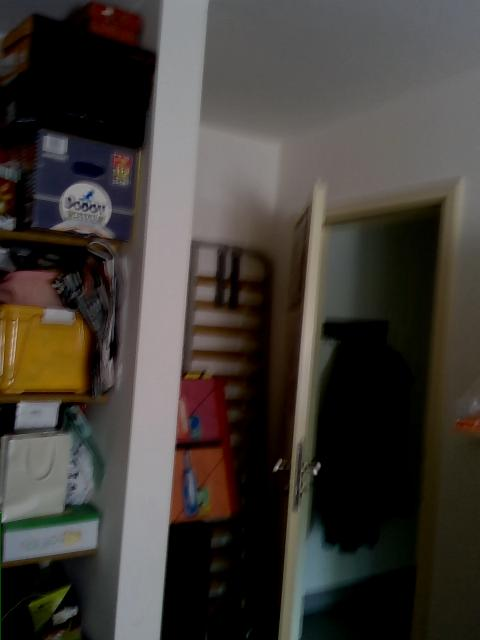semi_door: (261, 177, 463, 639)
